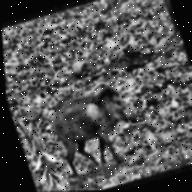boar: (40, 78, 152, 179)
